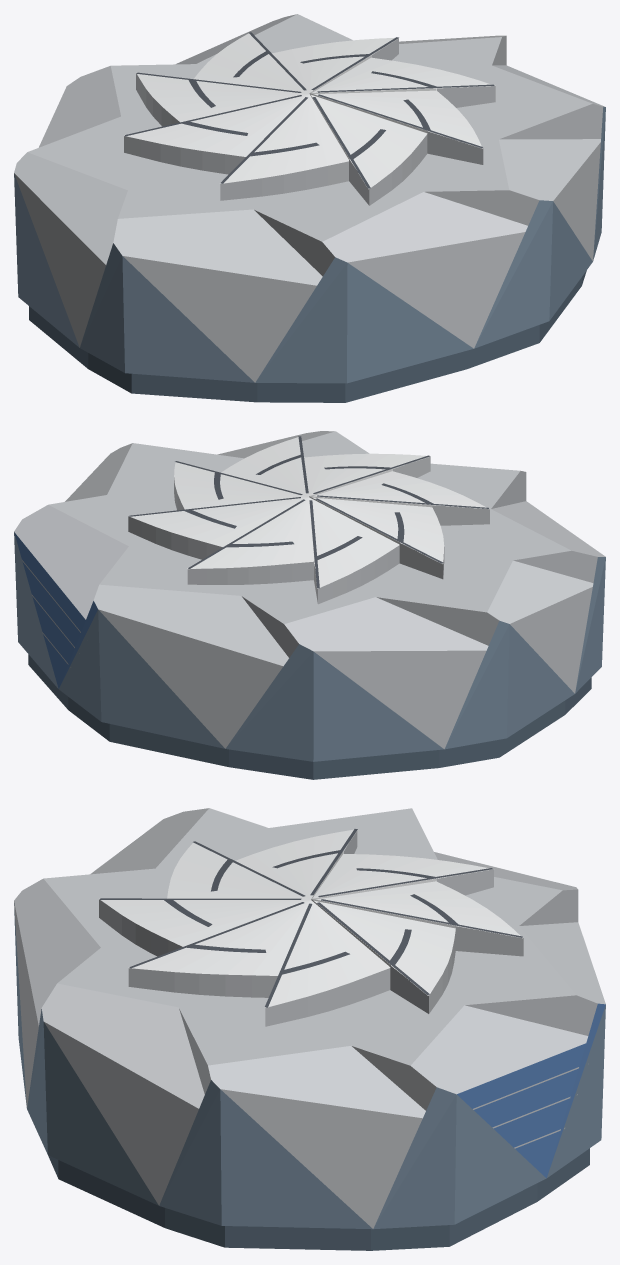
File: atl-mercedes-benz-stadium.glb
The picture shows the model from 3 angles, top to bottom: view 1: azimuth 30°, elevation 25°; view 2: azimuth 150°, elevation 25°; view 3: azimuth 270°, elevation 25°; orthographic projection. The views are drawn at different scales.
Parts seen in each view (by area): view 1: Mercedes-Benz Stadium; view 2: Mercedes-Benz Stadium; view 3: Mercedes-Benz Stadium.
Boxes of the visible parts, x1,y1,x2,y2 form: Mercedes-Benz Stadium: (14, 14, 605, 402); Mercedes-Benz Stadium: (14, 431, 605, 779); Mercedes-Benz Stadium: (14, 808, 605, 1250).
Size of the model in its own units: 269 by 97.1 by 240.
